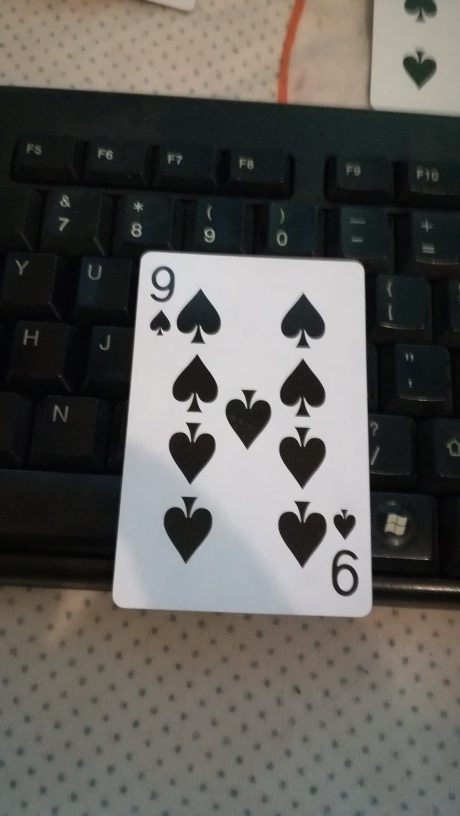ht 9: (108, 248, 376, 623)
